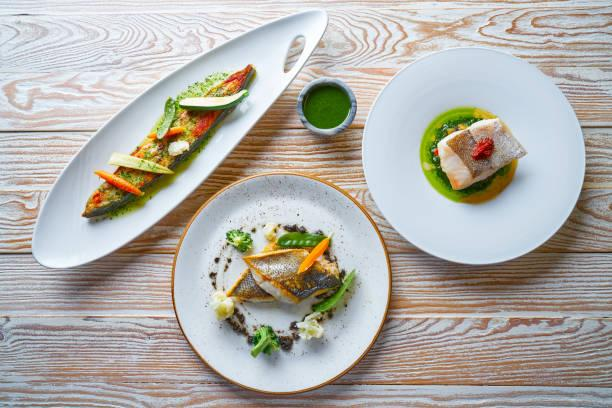Braised Crucian Carp: (3, 0, 371, 321), (361, 44, 583, 268), (170, 170, 390, 393)
